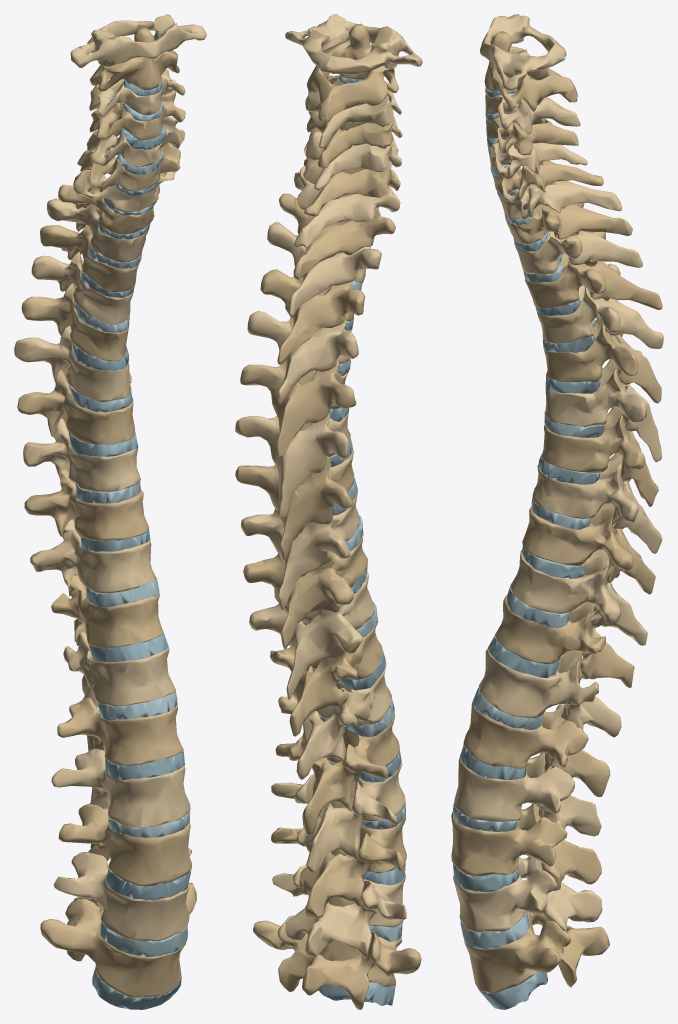
The model's file is spine.glb.
3 views of the same model, side by side, from view 1: azimuth 30°, elevation 25°; view 2: azimuth 150°, elevation 25°; view 3: azimuth 270°, elevation 25° (orthographic).
Parts seen in each view (by area): view 1: fifth-lumbar-vertebra-l5, second-lumbar-vertebra-l2, third-lumbar-vertebra-l3, fourth-lumbar-vertebra-l4, first-lumbar-vertebra-l1, tenth-thoracic-vertebra-t10, twelfth-thoracic-vertebra-t12, ninth-thoracic-vertebra-t9, eleventh-thoracic-vertebra-t11, seventh-thoracic-vertebra-t7, atlas-c1, eighth-thoracic-vertebra-t8 (+27 smaller); view 2: fifth-lumbar-vertebra-l5, fourth-lumbar-vertebra-l4, third-lumbar-vertebra-l3, second-lumbar-vertebra-l2, tenth-thoracic-vertebra-t10, first-lumbar-vertebra-l1, ninth-thoracic-vertebra-t9, fifth-thoracic-vertebra-t5, seventh-thoracic-vertebra-t7, sixth-thoracic-vertebra-t6, twelfth-thoracic-vertebra-t12, eighth-thoracic-vertebra-t8 (+16 smaller); view 3: third-lumbar-vertebra-l3, second-lumbar-vertebra-l2, first-lumbar-vertebra-l1, twelfth-thoracic-vertebra-t12, fourth-lumbar-vertebra-l4, fifth-lumbar-vertebra-l5, eleventh-thoracic-vertebra-t11, tenth-thoracic-vertebra-t10, ninth-thoracic-vertebra-t9, eighth-thoracic-vertebra-t8, seventh-thoracic-vertebra-t7, sixth-thoracic-vertebra-t6 (+26 smaller).
Boxes of the visible parts, x1=… form: fifth-lumbar-vertebra-l5: x1=40, y1=882, x2=196, y2=997; second-lumbar-vertebra-l2: x1=51, y1=748, x2=190, y2=827; third-lumbar-vertebra-l3: x1=58, y1=803, x2=191, y2=886; fourth-lumbar-vertebra-l4: x1=54, y1=848, x2=191, y2=941; first-lumbar-vertebra-l1: x1=57, y1=698, x2=183, y2=765; tenth-thoracic-vertebra-t10: x1=30, y1=519, x2=155, y2=596; twelfth-thoracic-vertebra-t12: x1=63, y1=632, x2=175, y2=707; ninth-thoracic-vertebra-t9: x1=24, y1=469, x2=148, y2=540; eleventh-thoracic-vertebra-t11: x1=51, y1=574, x2=163, y2=647; seventh-thoracic-vertebra-t7: x1=17, y1=369, x2=135, y2=444; atlas-c1: x1=70, y1=14, x2=206, y2=67; eighth-thoracic-vertebra-t8: x1=23, y1=418, x2=140, y2=491; fifth-lumbar-vertebra-l5: x1=253, y1=915, x2=421, y2=1009; fourth-lumbar-vertebra-l4: x1=272, y1=864, x2=406, y2=958; third-lumbar-vertebra-l3: x1=271, y1=812, x2=406, y2=917; second-lumbar-vertebra-l2: x1=271, y1=758, x2=405, y2=872; tenth-thoracic-vertebra-t10: x1=249, y1=571, x2=374, y2=699; first-lumbar-vertebra-l1: x1=275, y1=711, x2=399, y2=835; ninth-thoracic-vertebra-t9: x1=243, y1=532, x2=367, y2=649; fifth-thoracic-vertebra-t5: x1=240, y1=359, x2=356, y2=456; seventh-thoracic-vertebra-t7: x1=235, y1=448, x2=354, y2=560; sixth-thoracic-vertebra-t6: x1=235, y1=411, x2=350, y2=517; twelfth-thoracic-vertebra-t12: x1=278, y1=657, x2=391, y2=779; eighth-thoracic-vertebra-t8: x1=240, y1=489, x2=359, y2=609; third-lumbar-vertebra-l3: x1=451, y1=803, x2=601, y2=890; second-lumbar-vertebra-l2: x1=454, y1=753, x2=601, y2=845; first-lumbar-vertebra-l1: x1=463, y1=699, x2=610, y2=796; twelfth-thoracic-vertebra-t12: x1=479, y1=648, x2=621, y2=737; fourth-lumbar-vertebra-l4: x1=453, y1=856, x2=602, y2=932; fifth-lumbar-vertebra-l5: x1=464, y1=912, x2=609, y2=993; eleventh-thoracic-vertebra-t11: x1=495, y1=595, x2=634, y2=687; tenth-thoracic-vertebra-t10: x1=510, y1=549, x2=647, y2=645; ninth-thoracic-vertebra-t9: x1=522, y1=503, x2=655, y2=594; eighth-thoracic-vertebra-t8: x1=532, y1=453, x2=662, y2=553; seventh-thoracic-vertebra-t7: x1=541, y1=407, x2=658, y2=506; sixth-thoracic-vertebra-t6: x1=544, y1=350, x2=662, y2=461.
Bounding box in the file's own units: 0.2519 × 1.47 × 0.2914.
